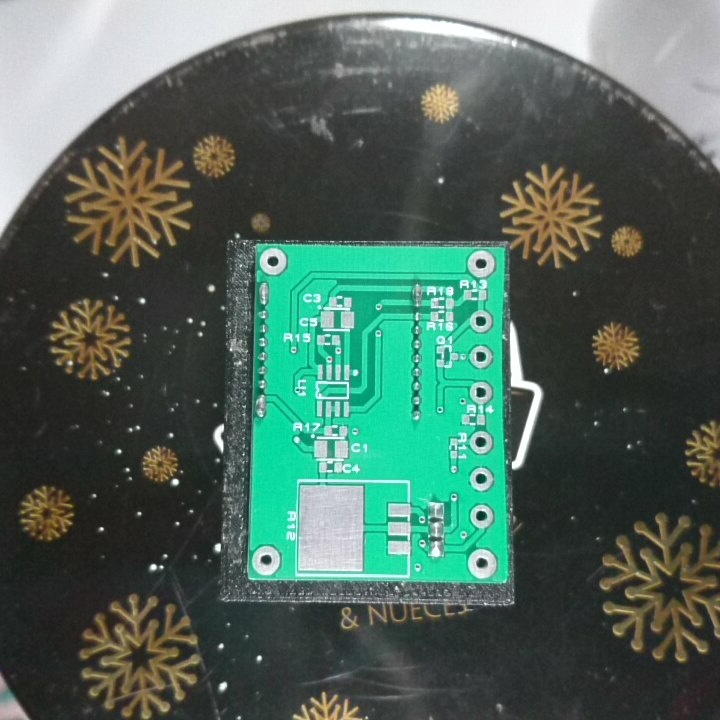F: (463, 547, 498, 580), (250, 543, 283, 578), (464, 249, 497, 278), (257, 246, 288, 276), (466, 465, 496, 494), (466, 430, 496, 458), (466, 342, 494, 371), (468, 503, 496, 531), (467, 378, 494, 406), (468, 309, 494, 337)
P: (256, 278, 272, 306), (409, 280, 425, 307), (254, 391, 268, 420)
